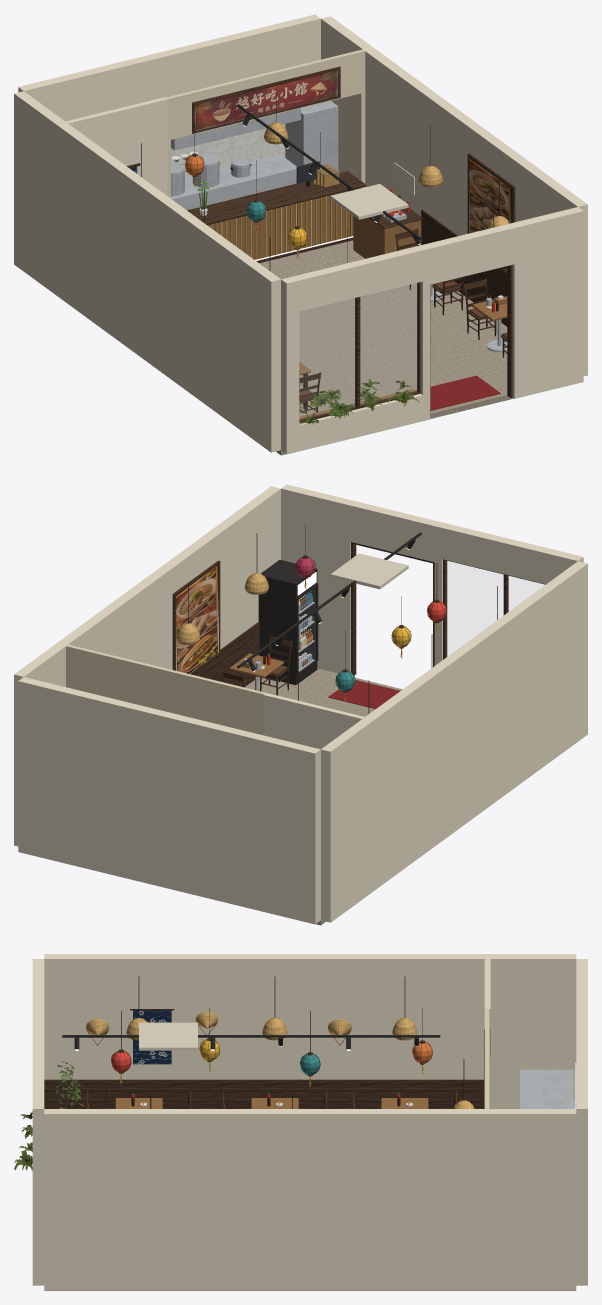
File: tz_yuehaochi_interior.glb
3 renders of one model, top to bottom at view 1: azimuth 30°, elevation 25°; view 2: azimuth 150°, elevation 25°; view 3: azimuth 270°, elevation 25°, orthographic. The views are drawn at different scales.
Parts seen in each view (by area): view 1: WALL_W, WALL_S, WALL_E, S_floor, S_vc, WALL_N, S_steel, S_wood_d, S_wood, S_pics, WALL_Sfix_wood_d, tz_yuehaochi_interior_inst (+4 smaller); view 2: WALL_N, WALL_W, WALL_S, WALL_E, S_vc, S_blackmetal, S_pics, S_wood_d, S_floor, WALL_Sfix_wood_d, S_wicker, tz_yuehaochi_interior_inst (+1 smaller); view 3: WALL_E, WALL_W, S_wood_d, WALL_S, WALL_N, S_vc, S_steel, S_wicker, S_wood, S_batik, S_blackmetal, S_floor (+1 smaller).
Part boxes in pixels (<box>): WALL_W: <box>14,91,280,452</box>; WALL_S: <box>281,207,583,454</box>; WALL_E: <box>321,16,587,376</box>; S_floor: <box>259,240,513,455</box>; S_vc: <box>65,49,503,410</box>; WALL_N: <box>18,14,320,176</box>; S_steel: <box>171,101,507,351</box>; S_wood_d: <box>127,66,515,409</box>; S_wood: <box>207,187,507,375</box>; S_pics: <box>194,69,511,273</box>; WALL_Sfix_wood_d: <box>299,265,512,423</box>; tz_yuehaochi_interior_inst: <box>299,228,507,412</box>; WALL_N: <box>18,677,320,924</box>; WALL_W: <box>321,561,587,922</box>; WALL_S: <box>281,484,583,673</box>; WALL_E: <box>14,486,280,846</box>; S_vc: <box>66,524,497,749</box>; S_blackmetal: <box>237,532,421,684</box>; S_pics: <box>176,565,218,673</box>; S_wood_d: <box>172,555,446,692</box>; S_floor: <box>244,668,402,925</box>; WALL_Sfix_wood_d: <box>351,542,545,675</box>; S_wicker: <box>176,573,268,644</box>; tz_yuehaochi_interior_inst: <box>221,635,292,695</box>; WALL_E: <box>44,1109,576,1290</box>; WALL_W: <box>44,954,576,1108</box>; S_wood_d: <box>44,1029,490,1108</box>; WALL_S: <box>32,959,44,1285</box>; WALL_N: <box>576,959,587,1285</box>; S_vc: <box>87,959,574,1108</box>; S_steel: <box>138,1069,574,1108</box>; S_wicker: <box>86,1012,474,1108</box>; S_wood: <box>115,1098,428,1108</box>; S_batik: <box>133,1010,171,1064</box>; S_blackmetal: <box>62,1035,440,1037</box>; S_floor: <box>44,1290,575,1290</box>.
Size of the model in its own units: 6.4 by 3.4 by 9.72.
28 materials, 24 textured.
